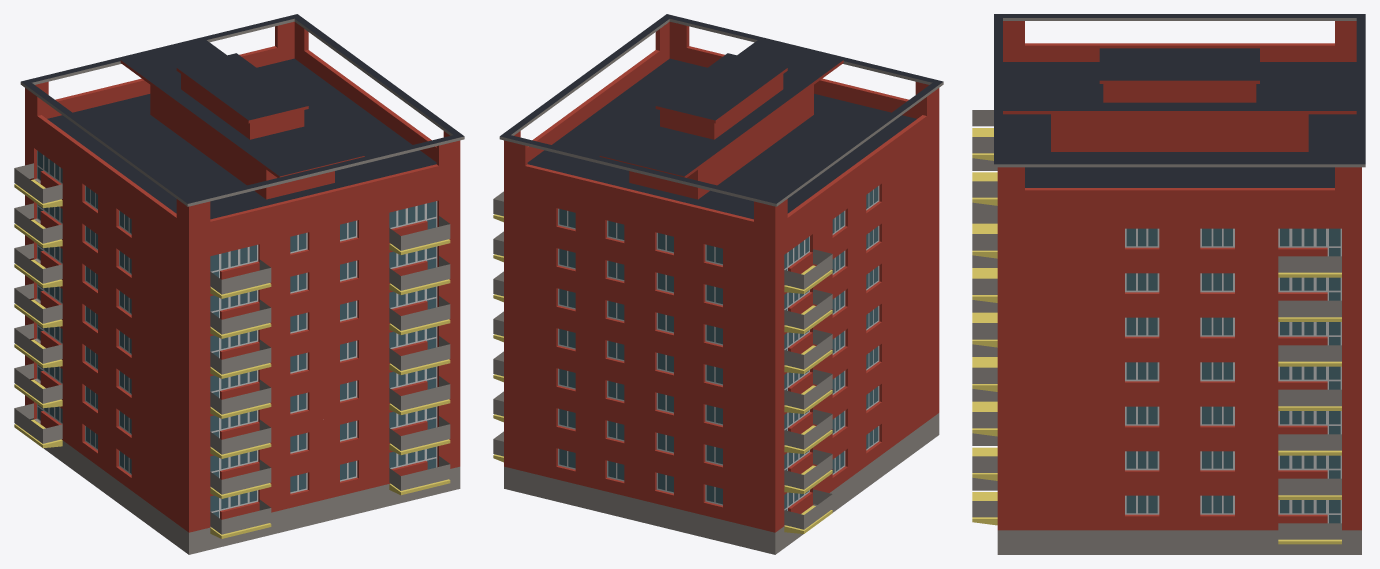
File: tower_house_01.fbx
3 views of the same model, side by side, from view 1: azimuth 30°, elevation 25°; view 2: azimuth 150°, elevation 25°; view 3: azimuth 270°, elevation 25° (orthographic). The views are drawn at different scales.
Parts seen in each view (by area): view 1: tower_house_01, tower_house_01-2, tower_house_01-03; view 2: tower_house_01, tower_house_01-2, tower_house_01-03; view 3: tower_house_01, tower_house_01-2, tower_house_01-03.
Part boxes in pixels (x1,y1,x2,y2): tower_house_01: (25,133,460,532); tower_house_01-2: (20,14,464,554); tower_house_01-03: (14,163,450,538); tower_house_01: (504,133,939,532); tower_house_01-2: (499,14,943,554); tower_house_01-03: (493,191,832,533); tower_house_01: (997,219,1361,530); tower_house_01-2: (994,14,1365,554); tower_house_01-03: (972,110,1341,544).
Bounding box in the file's own units: 2195 × 2531 × 2165.
